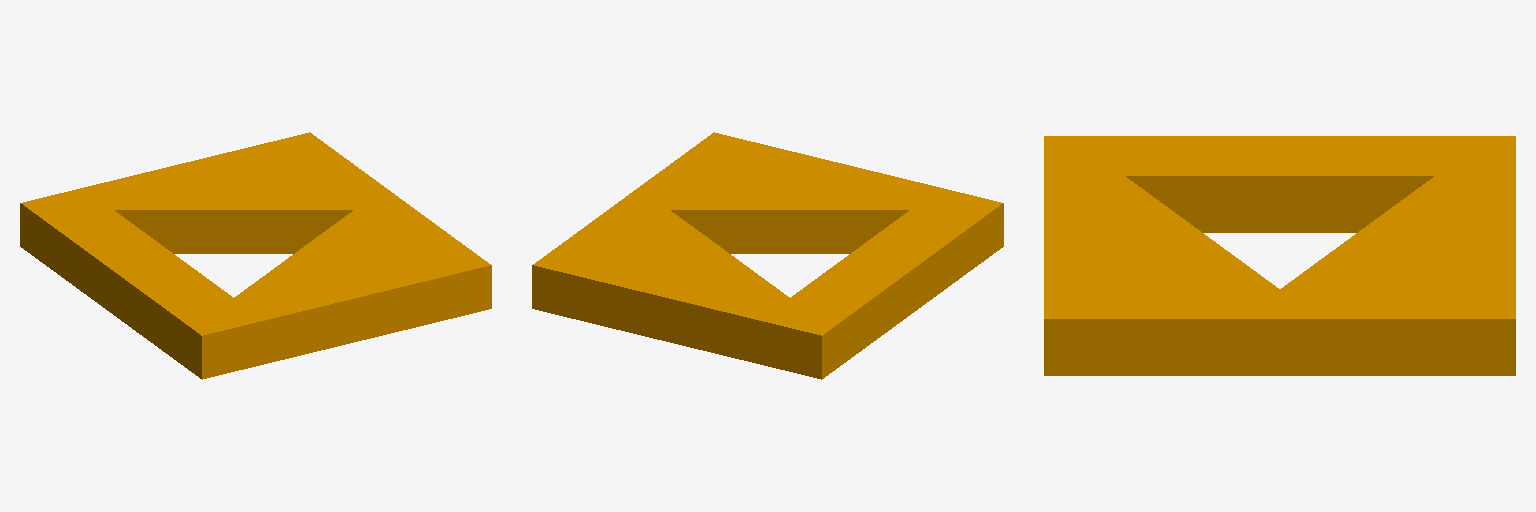
The robot description file, URDF, robot "red_triangle_hole":
<?xml version="1.0"?>
<robot name="red_triangle_hole">
    <link name="red_triangle_hole">
        <visual>
            <!--origin xyz="0 0 0.01905" rpy="0 1.57079632679 0"-->
            <geometry>
                <mesh filename="../mesh/factory_insertion/small_red_triangle_hole.obj"/>
            </geometry>
        </visual>
        <collision>
            <!--origin xyz="0 0 0.01905" rpy="0 1.57079632679 0"-->
            <geometry>
                <mesh filename="../mesh/factory_insertion/small_red_triangle_hole.obj"/>
            </geometry>
            <sdf resolution="256" />
        </collision>
    </link>
</robot>

--- What the picture shows (computed from the rendered views, not written in the file) ---
Views: 3 orthographic renders of the robot side by side, from view 1: azimuth 30°, elevation 25°; view 2: azimuth 150°, elevation 25°; view 3: azimuth 270°, elevation 25°.
Model red_triangle_hole with 1 links and 0 joints (none), rooted at red_triangle_hole, posed all joints at 0.
Visible links, largest first — view 1: red_triangle_hole; view 2: red_triangle_hole; view 3: red_triangle_hole.
Link boxes in pixels (box(x1,y1,x2,y2)): red_triangle_hole: box(20, 132, 491, 379); red_triangle_hole: box(532, 132, 1003, 379); red_triangle_hole: box(1044, 136, 1515, 375).
Bounding box of the posed robot: 0.0691 × 0.075 × 0.01 m (x, y, z).
Meshes: 1 distinct files referenced, 1 mesh visuals loaded (1 OBJ).
